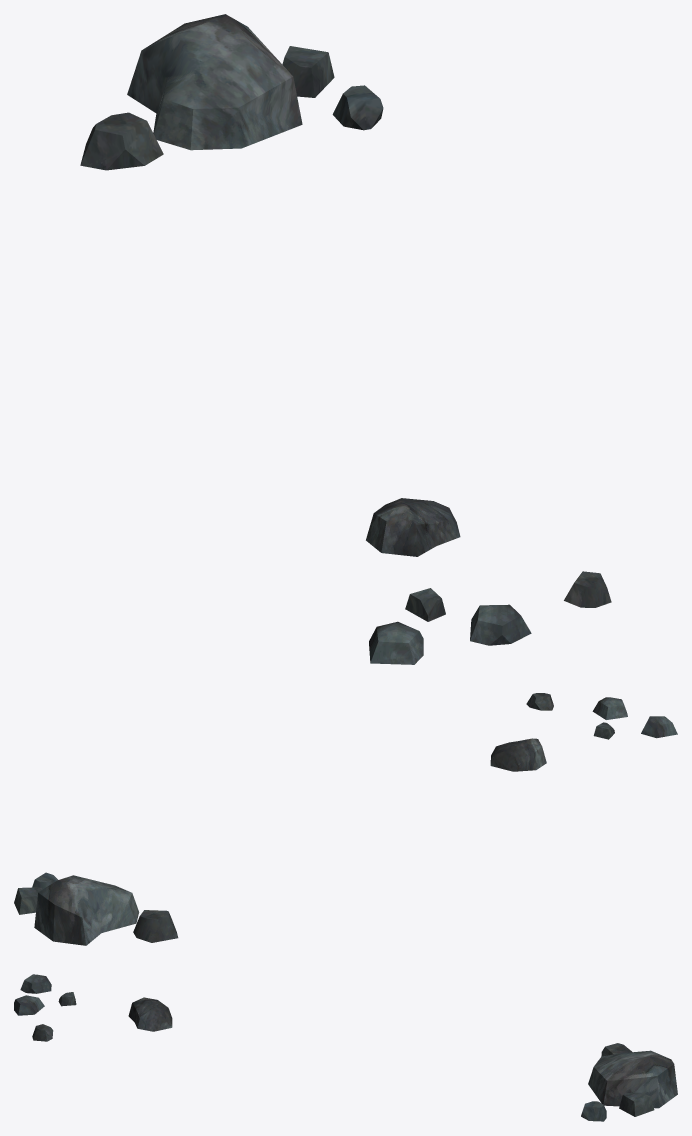
File: object_rubble02.fbx
3 views of the same model, one above another, from view 1: azimuth 30°, elevation 25°; view 2: azimuth 150°, elevation 25°; view 3: azimuth 270°, elevation 25° (orthographic). The views are drawn at different scales.
Visible parts, largest first — view 1: Material_#238683587/cliffside; view 2: Material_#238683587/cliffside; view 3: Material_#238683587/cliffside.
Part boxes in pixels (box(x1,y1,x2,y2)): Material_#238683587/cliffside: box(80, 14, 611, 664); Material_#238683587/cliffside: box(14, 693, 677, 945); Material_#238683587/cliffside: box(14, 974, 677, 1121).
Bounding box in the file's own units: 4.78 × 0.6873 × 9.63.
